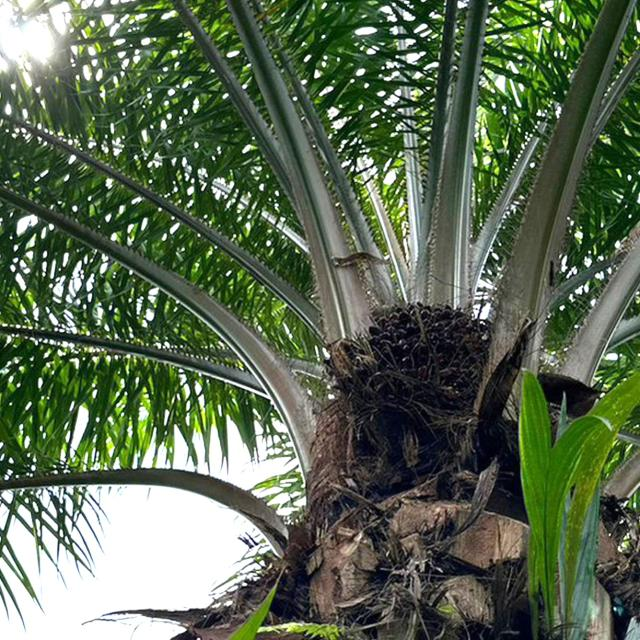almost: (351, 290, 502, 434)
